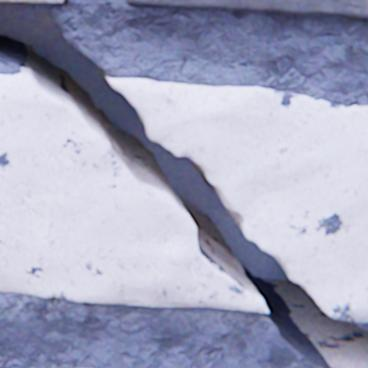brick: (127, 0, 367, 18), (0, 0, 63, 3)
broken_brick: (0, 73, 266, 311), (107, 78, 367, 321)
crack: (0, 1, 367, 367)
